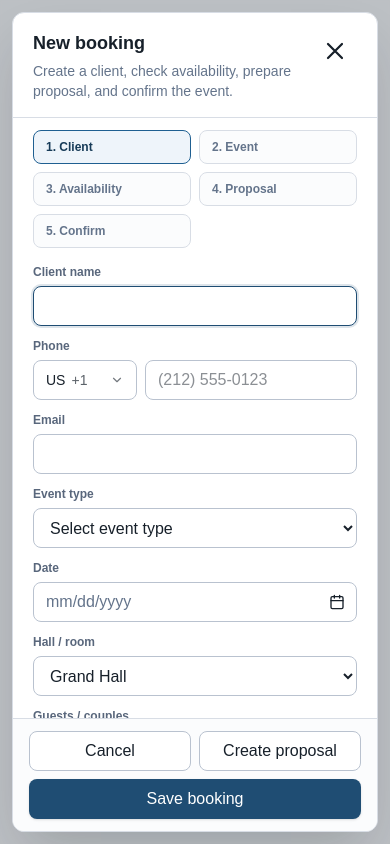
Test: NewBookingDialog permission gating › disables both submit buttons and explains why when the viewer lacks canCreateBooking
Select "Wedding" in the dropdown labelled "Event type": x=195, y=528 [33,508,357,548]
(page scrolled)
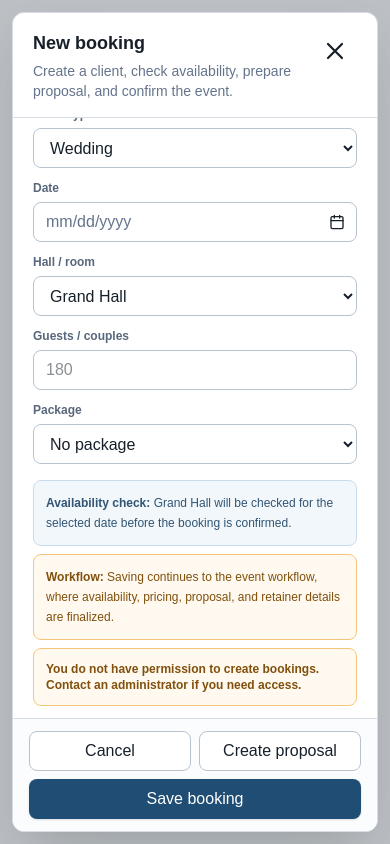
Expected: the button "Save booking" is disabled, [29,779,361,819]
Expected: the text "do not have permission to create bookings" is shown, [46,662,319,692]
